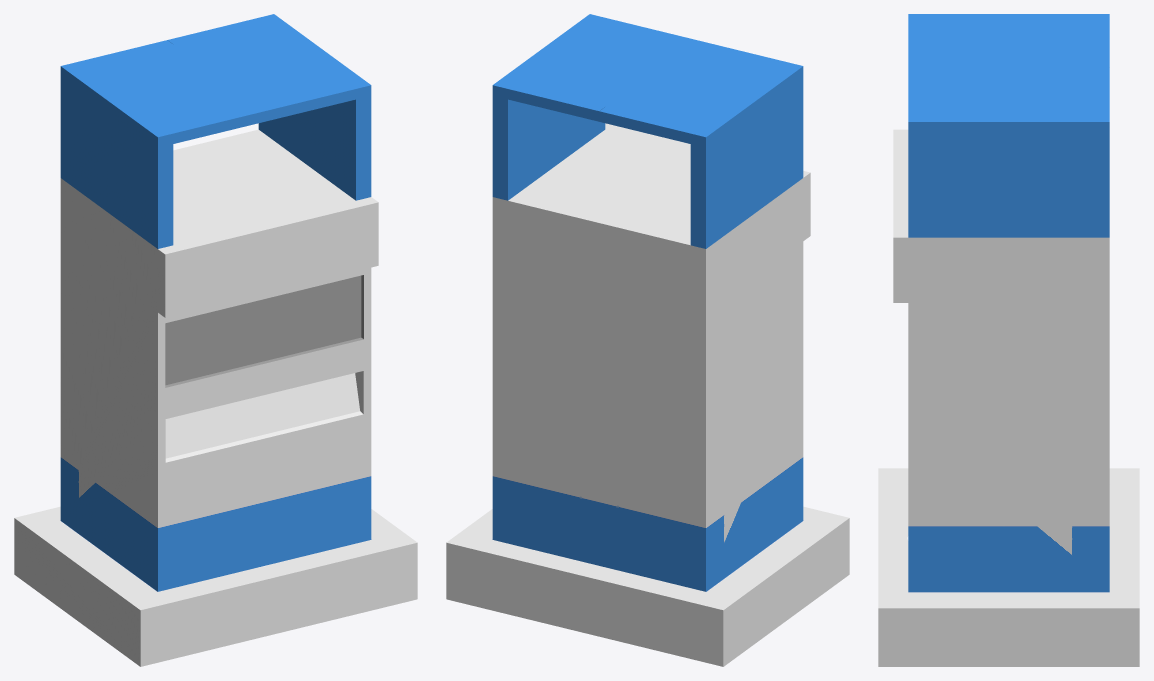
File: 20170424_Tanker.fbx
The picture shows the model from 3 angles, left to right: view 1: azimuth 30°, elevation 25°; view 2: azimuth 150°, elevation 25°; view 3: azimuth 270°, elevation 25°; orthographic projection. The views are drawn at different scales.
Visible parts, largest first — view 1: Cube; view 2: Cube; view 3: Cube.
Boxes of the visible parts, box(x1,y1,x2,y2) form: Cube: box(14, 14, 417, 666); Cube: box(446, 14, 849, 666); Cube: box(878, 14, 1139, 666).
Size of the model in its own units: 159 by 281 by 126.
1 material, 1 textured.
